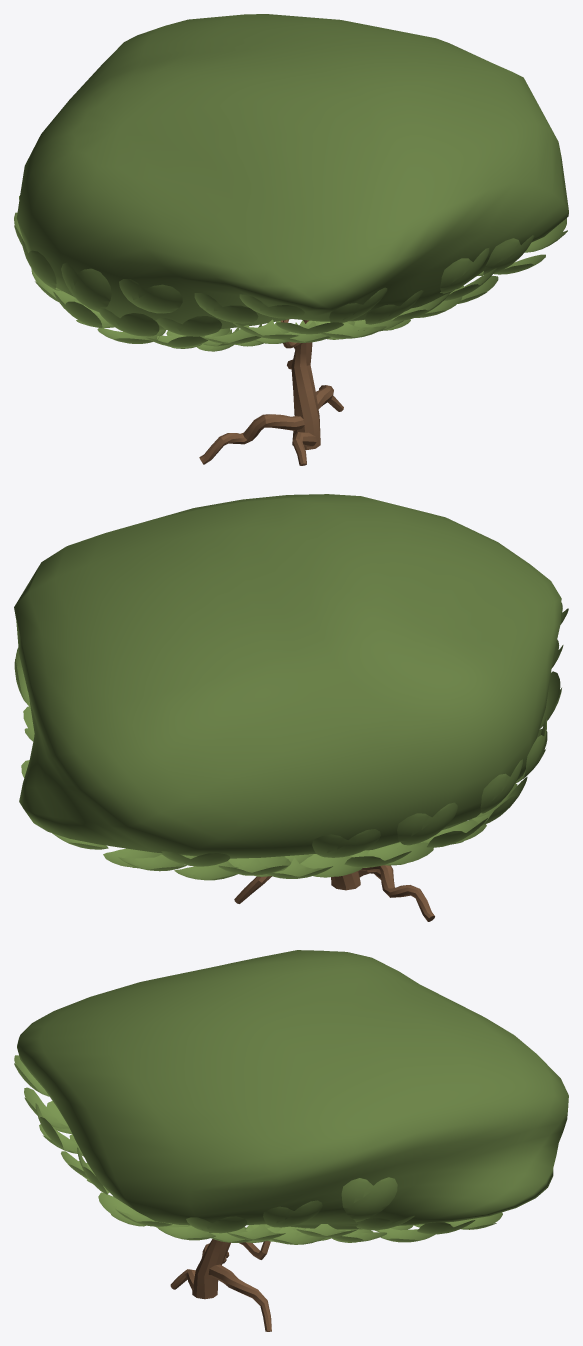
The model's file is BIG TREE 1.fbx.
The picture shows the model from 3 angles, top to bottom: view 1: azimuth 30°, elevation 25°; view 2: azimuth 150°, elevation 25°; view 3: azimuth 270°, elevation 25°; orthographic projection. The views are drawn at different scales.
Parts seen in each view (by area): view 1: pPlane59; view 2: pPlane59; view 3: pPlane59.
Boxes of the visible parts, box(x1,y1,x2,y2) form: pPlane59: box(14, 14, 568, 465); pPlane59: box(14, 494, 568, 921); pPlane59: box(14, 950, 568, 1331).
Bounding box in the file's own units: 28.23 × 20.06 × 31.1.
